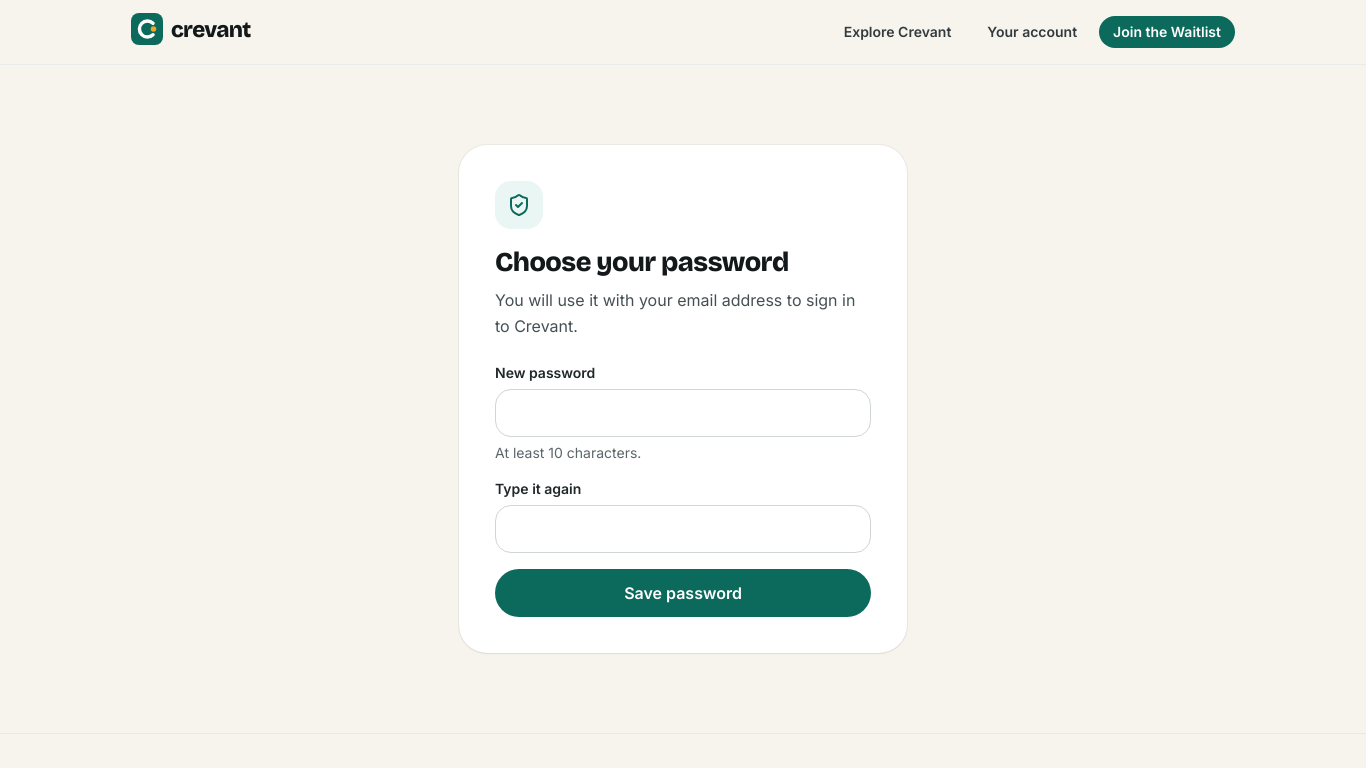
choosing a password › blocks a short password before contacting Supabase
The image size is (1366, 768).
Type "short" into the password field labelled "New password" at (683, 413), box top-left (495, 389), bottom-right (871, 437)
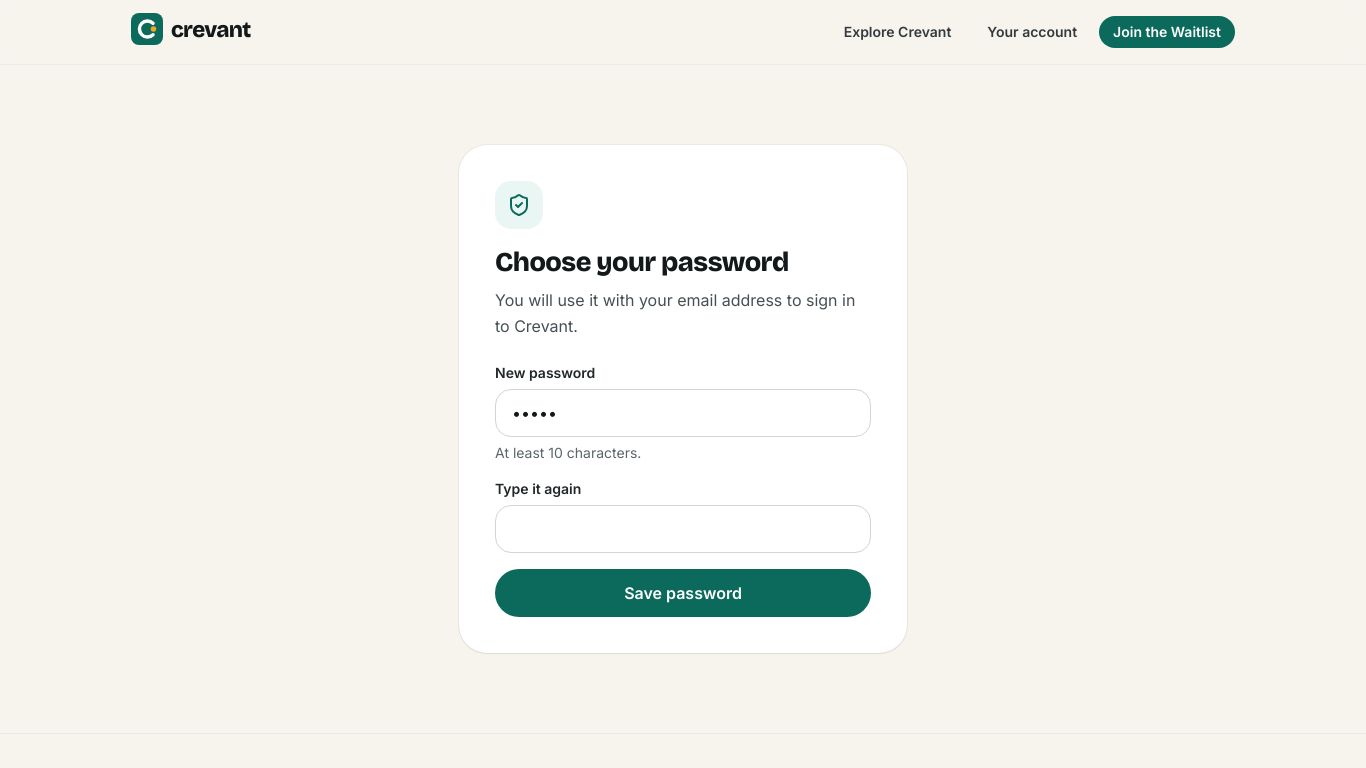
Type "short" into the password field labelled "Type it again" at (683, 529), box top-left (495, 505), bottom-right (871, 553)
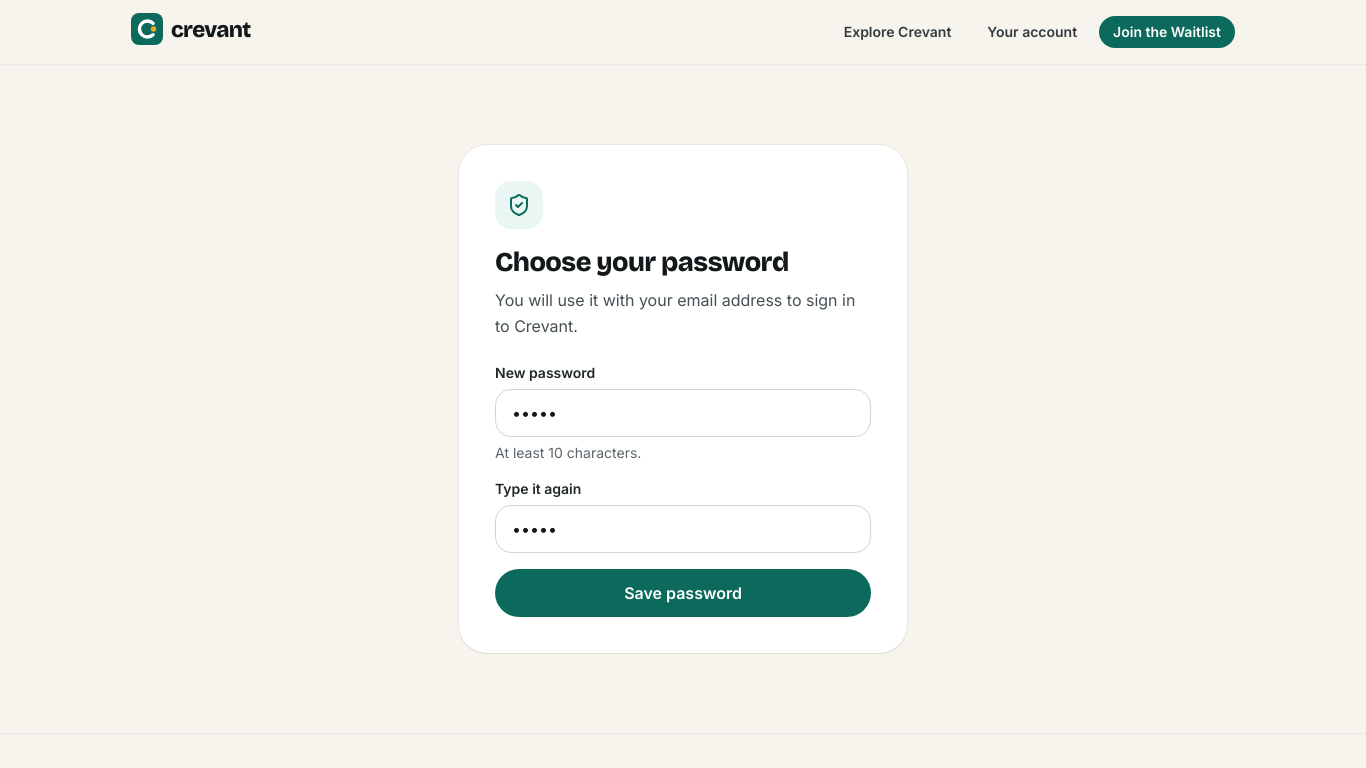
Click the button "Save password" at (683, 593), box top-left (495, 569), bottom-right (871, 617)
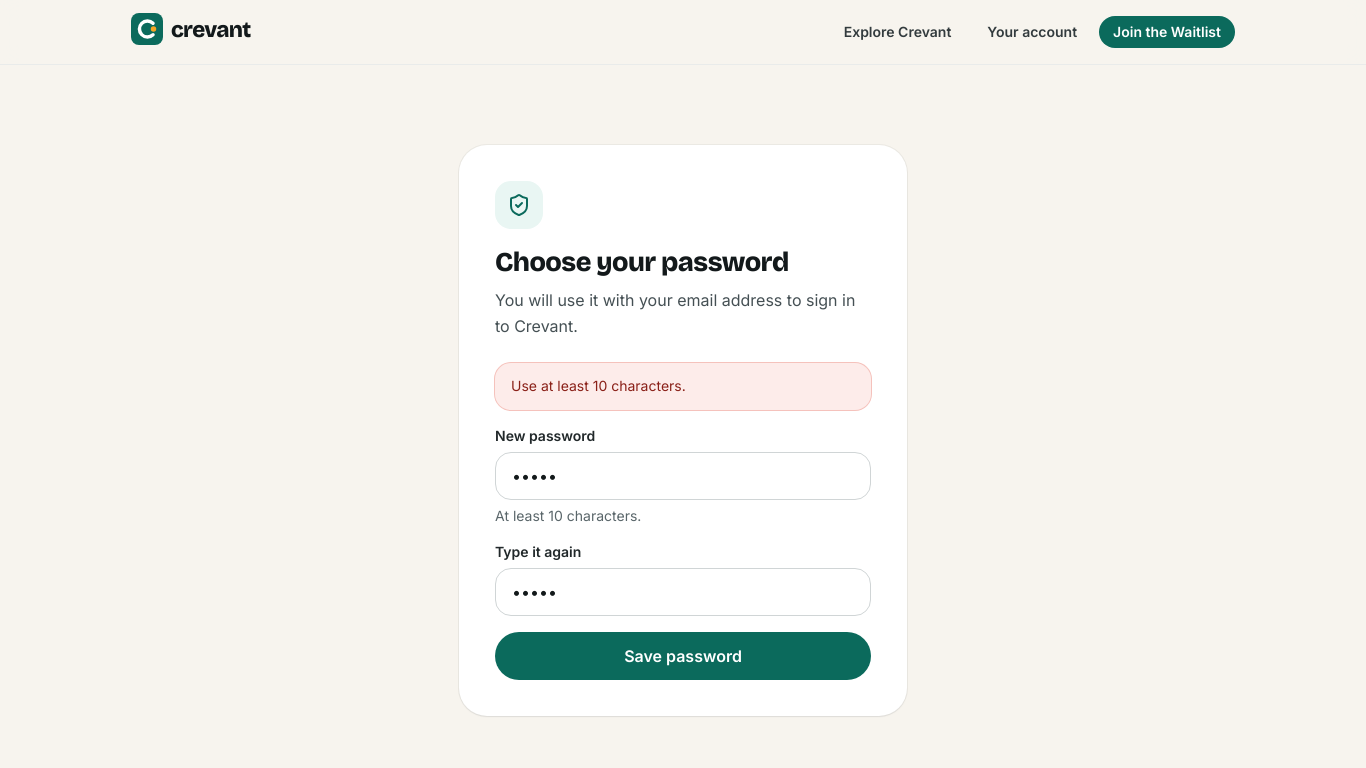
Result: the message "Use at least 10 characters." is shown at top-left (495, 363), bottom-right (871, 410)
